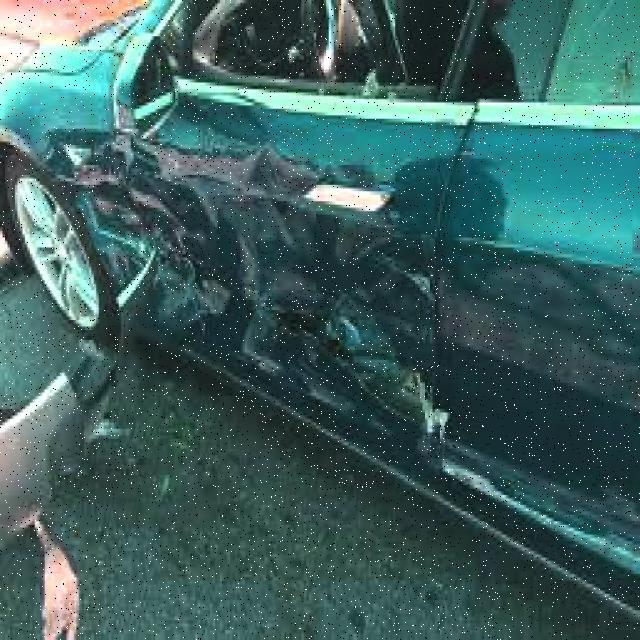car damage: (60, 86, 448, 450)
